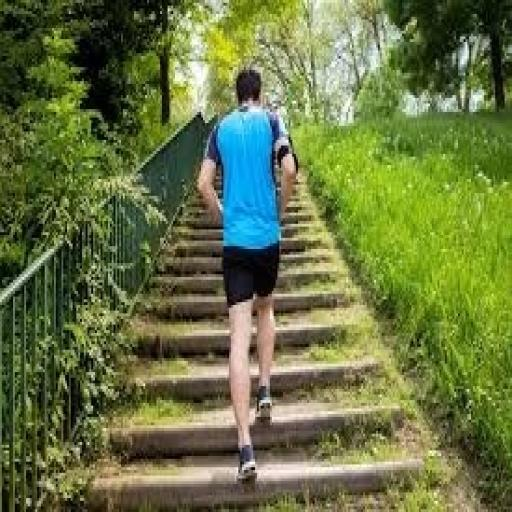running: (195, 64, 300, 484)
